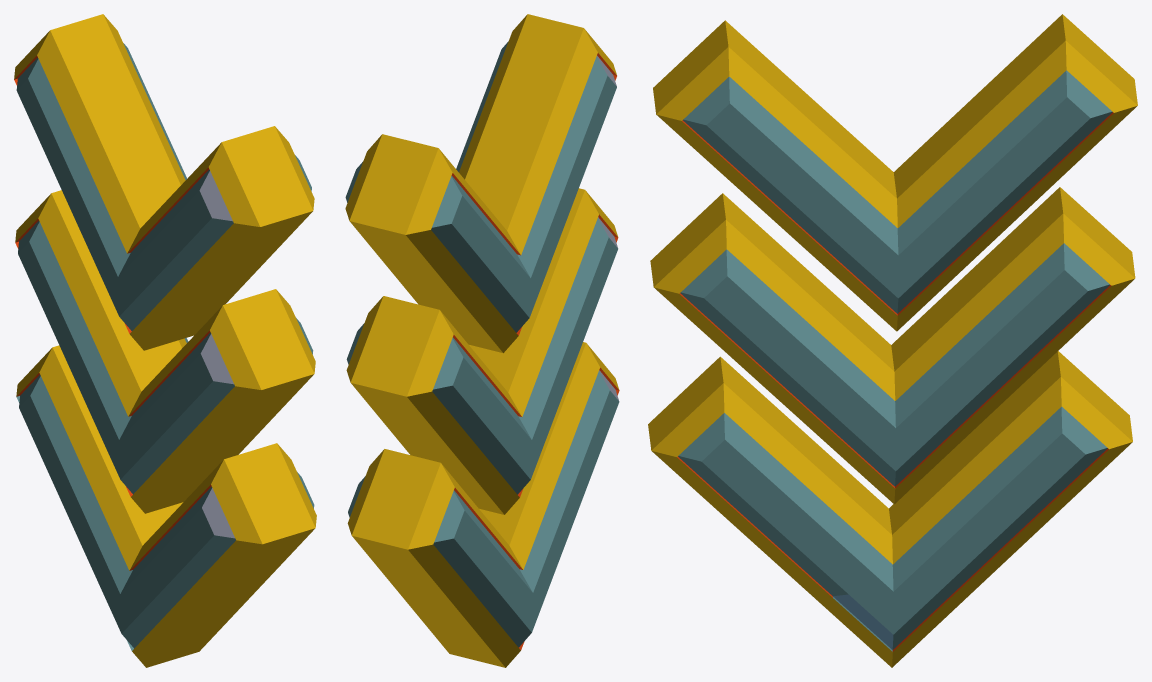
Rendered from SpeedBoost.fbx.
3 renders of one model, left to right at view 1: azimuth 30°, elevation 25°; view 2: azimuth 150°, elevation 25°; view 3: azimuth 270°, elevation 25°, orthographic. The views are drawn at different scales.
Visible parts, largest first — view 1: Cube; view 2: Cube; view 3: Cube.
Part boxes in pixels (left/top/right/bottom): Cube: left=14, top=14, right=316, bottom=667; Cube: left=345, top=14, right=619, bottom=667; Cube: left=648, top=14, right=1137, bottom=667.
Size of the model in its own units: 42.61 by 201 by 144.
